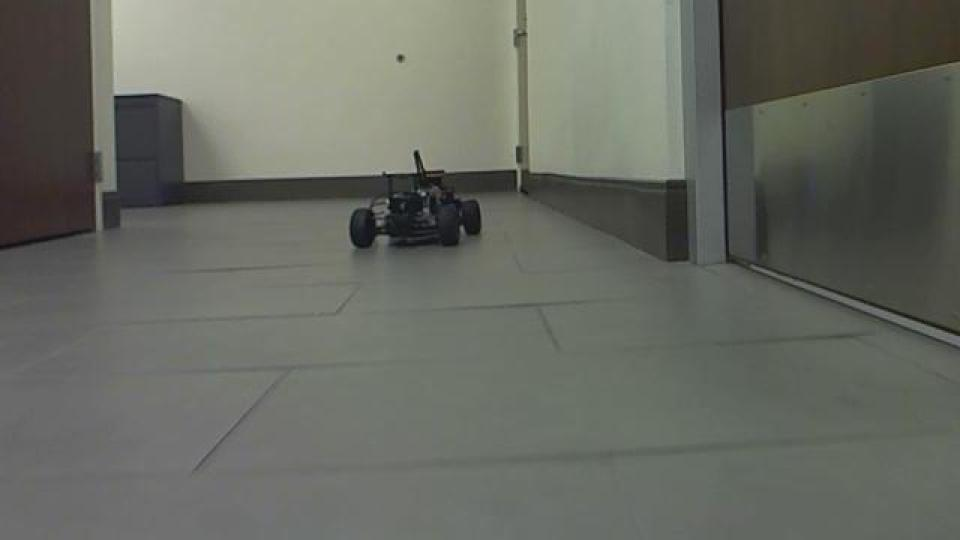car: (345, 147, 485, 252)
